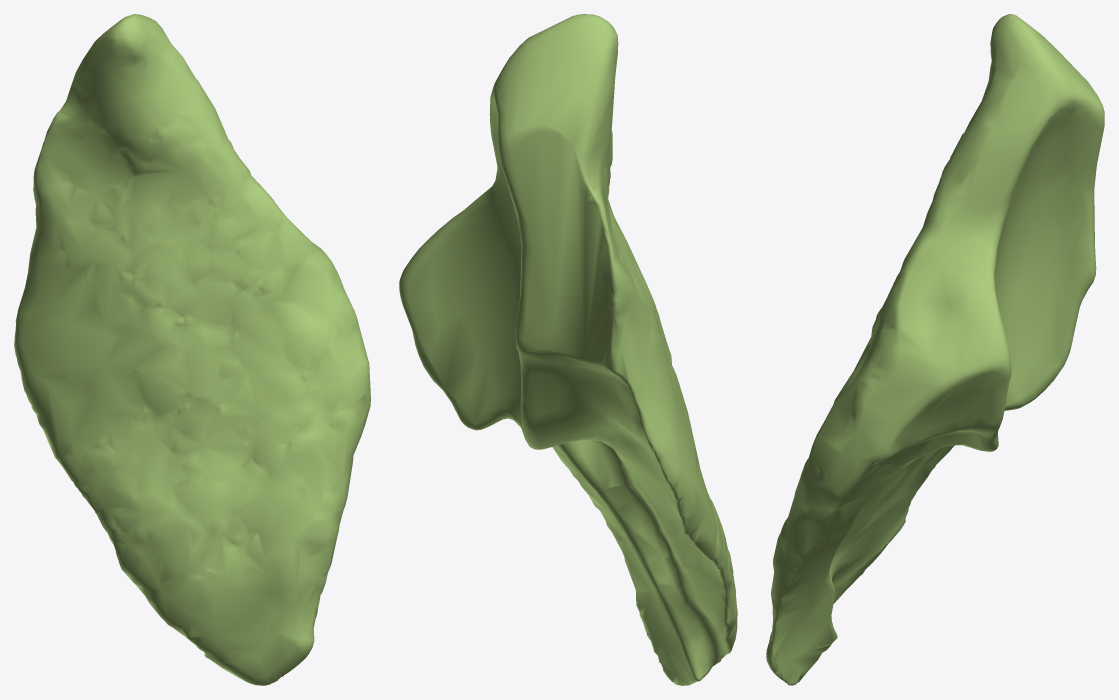
The model's file is right-lobe-of-thymus.glb.
The picture shows the model from 3 angles, left to right: view 1: azimuth 30°, elevation 25°; view 2: azimuth 150°, elevation 25°; view 3: azimuth 270°, elevation 25°; orthographic projection. The views are drawn at different scales.
Parts seen in each view (by area): view 1: Right lobe of thymus; view 2: Right lobe of thymus; view 3: Right lobe of thymus.
Boxes of the visible parts, <box> form: Right lobe of thymus: <box>14,14,370,685</box>; Right lobe of thymus: <box>399,14,737,685</box>; Right lobe of thymus: <box>766,14,1104,685</box>.
Size of the model in its own units: 0.0236 by 0.0515 by 0.0243.
